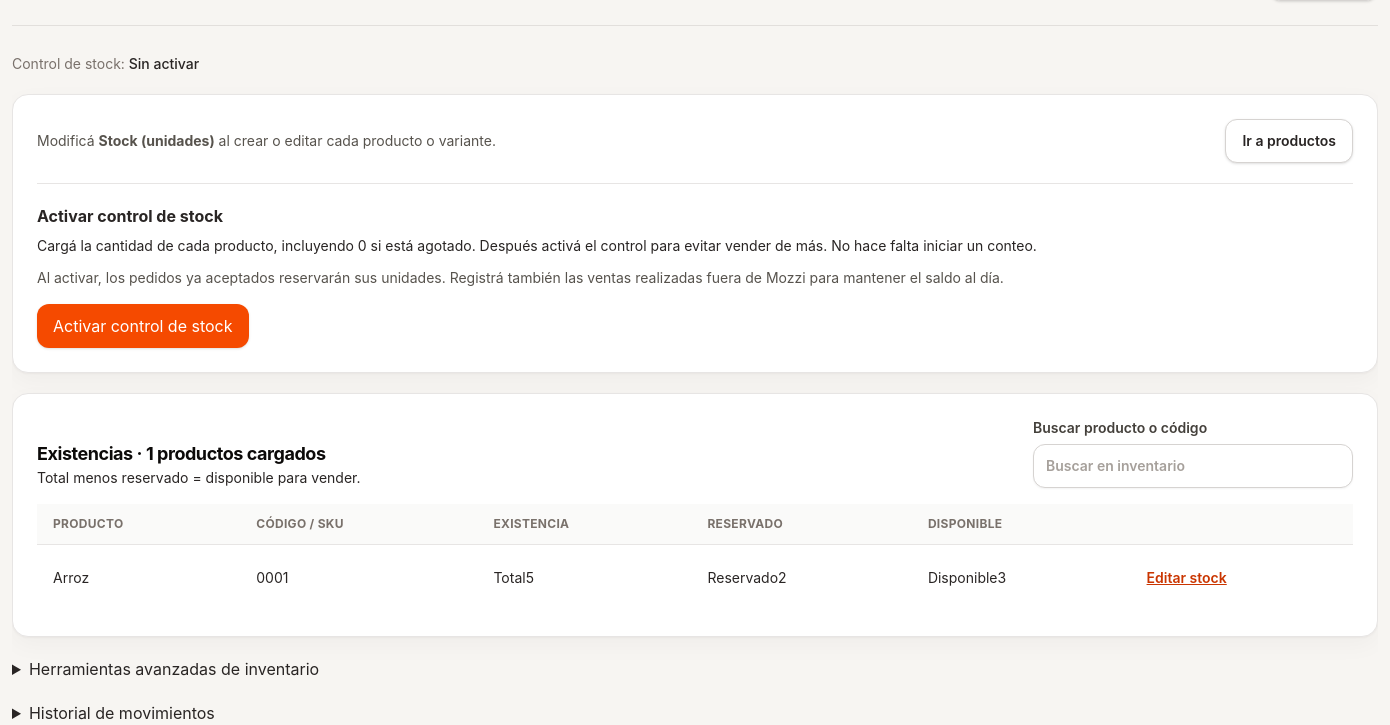
Test case: inventory operation UI (backend contracts simulated) › never confirms business rules or activates stock on load
(page scrolled)
Expected: the button "Activar control de stock" is enabled, 37,304 -> 248,348
Click the heading "Herramientas avanzadas de inventario" at coordinates (174, 669), box 29,659 -> 319,679
(page scrolled)
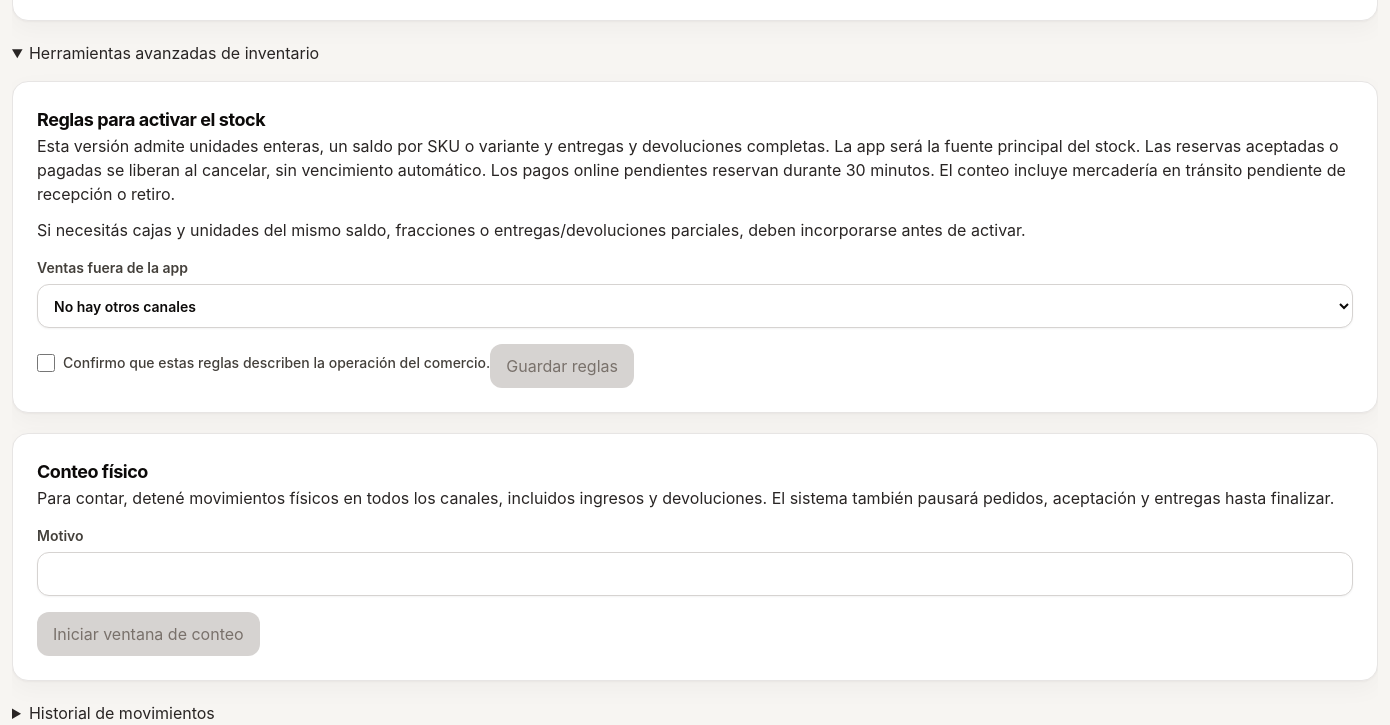
Now the button "Guardar reglas" is disabled, box 490,344 -> 634,388
